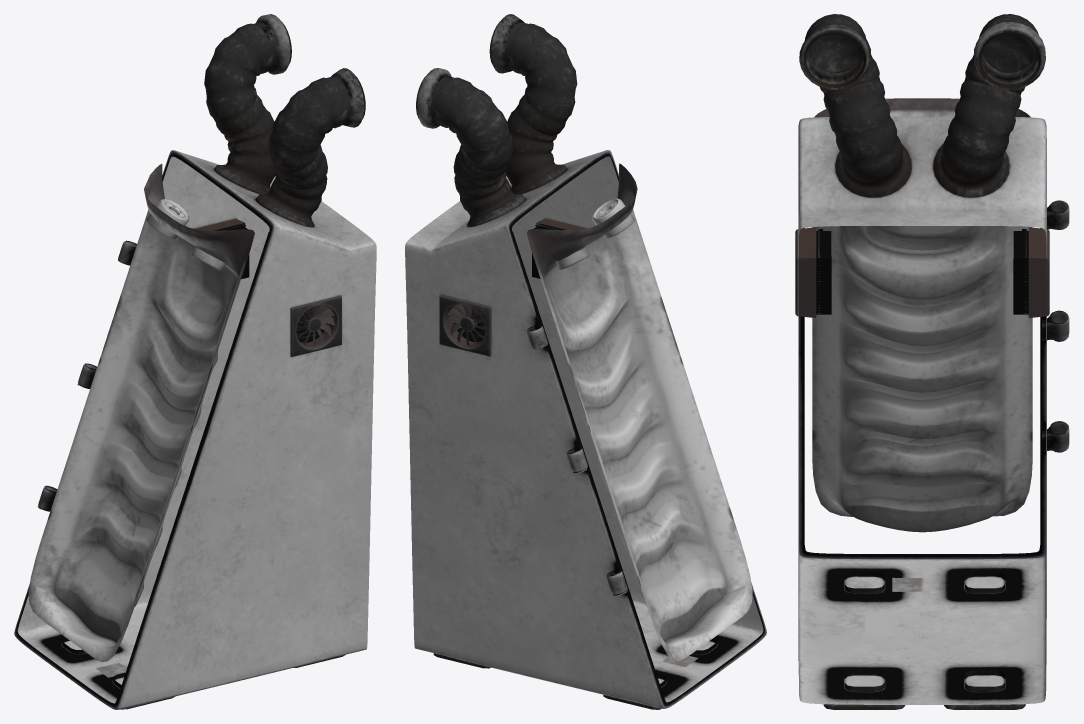
The model's file is SM_Cryo_Pod_Doorless.fbx.
3 renders of one model, left to right at view 1: azimuth 30°, elevation 25°; view 2: azimuth 150°, elevation 25°; view 3: azimuth 270°, elevation 25°, orthographic. The views are drawn at different scales.
Visible parts, largest first — view 1: Cryo_Pod_Doorless; view 2: Cryo_Pod_Doorless; view 3: Cryo_Pod_Doorless.
Part boxes in pixels (<box>): Cryo_Pod_Doorless: <box>14,14,376,709</box>; Cryo_Pod_Doorless: <box>405,14,766,709</box>; Cryo_Pod_Doorless: <box>795,14,1069,709</box>.
Bounding box in the file's own units: 269 × 574 × 207.
1 material, 1 textured.
